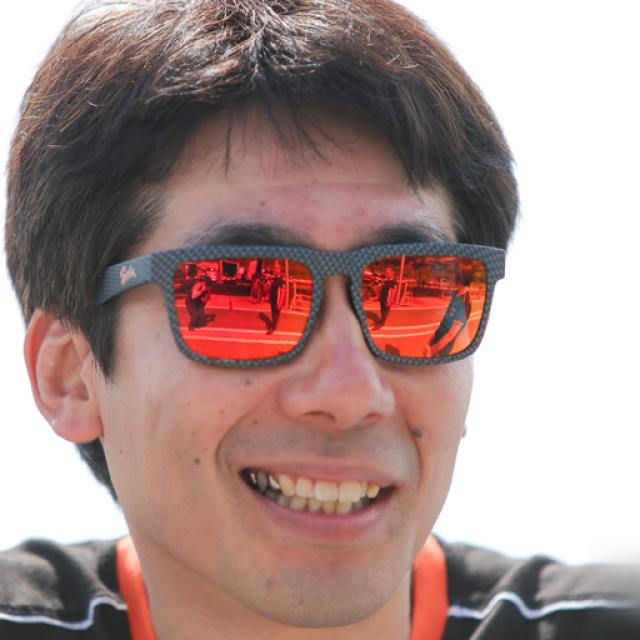Acne: (396, 416, 432, 447)
Wrinkle: (256, 172, 407, 194)
